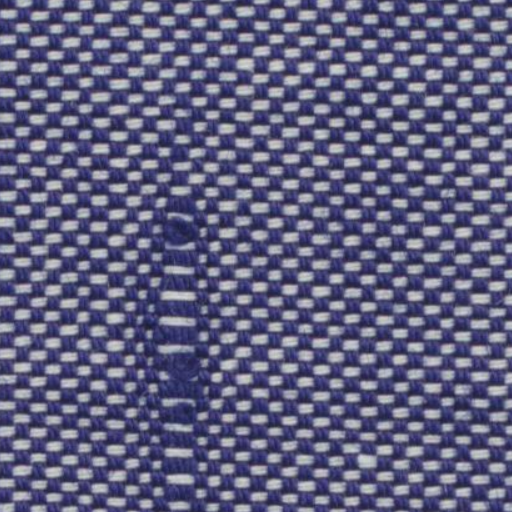DaiSha: (140, 142, 224, 502)
